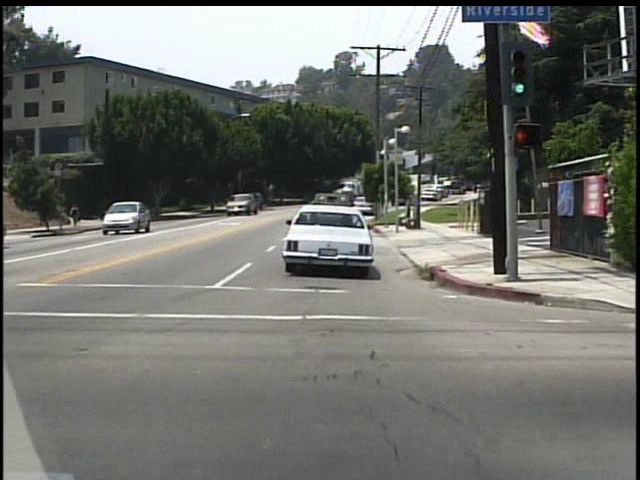person: (70, 203, 83, 229)
